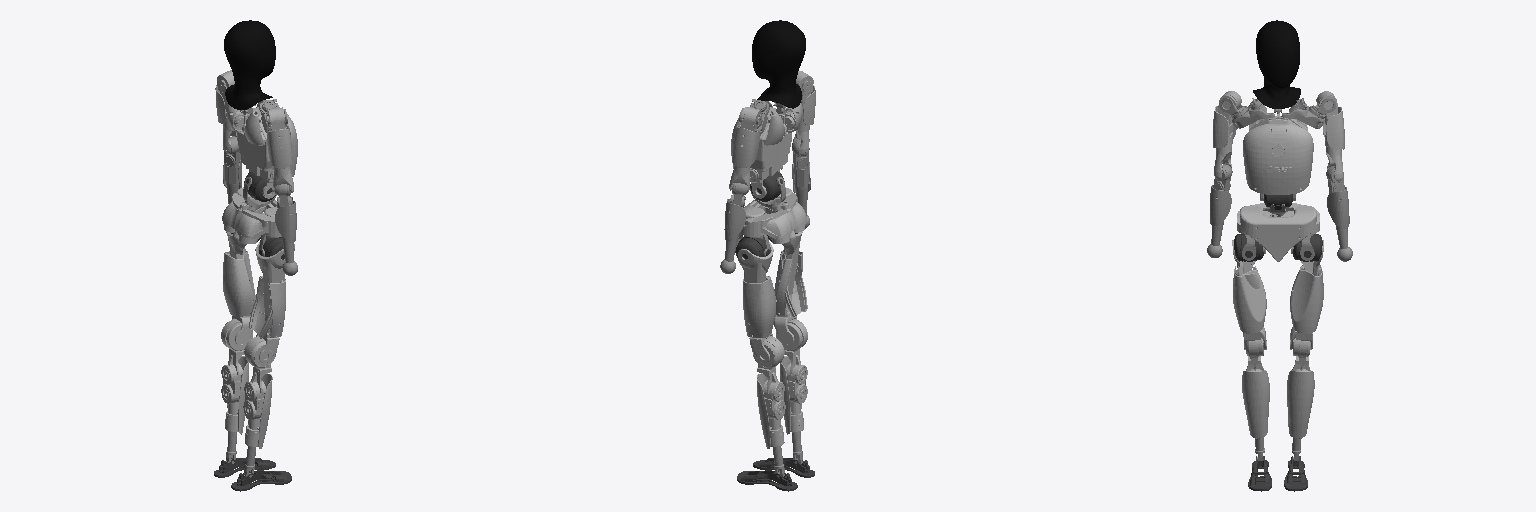
--- Render facts (derived) ---
Views: 3 orthographic renders of the robot side by side, from view 1: azimuth 30°, elevation 25°; view 2: azimuth 150°, elevation 25°; view 3: azimuth 270°, elevation 25°.
Model T1pro with 35 links and 34 joints (34 revolute), rooted at base_link, posed every joint at zero.
Visible links, largest first — view 1: topY_Link, R_hipP_Link, torsoP_Link, R_kneeP_Link, L_hipP_Link, L_kneeP_Link, base_link, R_elbowR_Link, R_shoulderR_Link, L_elbowR_Link, R_ankleP_Link, L_ankleP_Link (+1 smaller); view 2: topY_Link, L_hipP_Link, torsoP_Link, L_kneeP_Link, R_hipP_Link, R_kneeP_Link, base_link, L_elbowR_Link, L_shoulderR_Link, R_elbowR_Link, L_ankleP_Link, R_shoulderR_Link (+1 smaller); view 3: torsoP_Link, topY_Link, base_link, L_hipP_Link, R_hipP_Link, R_kneeP_Link, L_kneeP_Link, L_elbowR_Link, R_elbowR_Link, L_shoulderR_Link, R_shoulderR_Link, R_rodY_Link (+3 smaller).
Link boxes in pixels (<box>): topY_Link: <box>224,20,275,109</box>; R_hipP_Link: <box>249,242,285,362</box>; torsoP_Link: <box>227,102,297,198</box>; R_kneeP_Link: <box>243,336,276,448</box>; L_hipP_Link: <box>223,231,260,346</box>; L_kneeP_Link: <box>221,319,252,434</box>; base_link: <box>222,187,280,243</box>; R_elbowR_Link: <box>275,184,297,275</box>; R_shoulderR_Link: <box>266,107,292,168</box>; L_elbowR_Link: <box>223,136,241,203</box>; R_ankleP_Link: <box>231,470,291,491</box>; L_ankleP_Link: <box>214,458,275,477</box>; topY_Link: <box>752,20,805,108</box>; L_hipP_Link: <box>737,242,775,362</box>; torsoP_Link: <box>731,102,801,198</box>; L_kneeP_Link: <box>752,336,785,448</box>; R_hipP_Link: <box>769,231,807,346</box>; R_kneeP_Link: <box>776,319,807,434</box>; base_link: <box>740,187,806,243</box>; L_elbowR_Link: <box>720,183,747,273</box>; L_shoulderR_Link: <box>732,107,761,167</box>; R_elbowR_Link: <box>792,139,810,228</box>; L_ankleP_Link: <box>737,470,797,491</box>; R_shoulderR_Link: <box>796,71,815,125</box>; torsoP_Link: <box>1243,98,1313,200</box>; topY_Link: <box>1253,20,1300,108</box>; base_link: <box>1237,203,1319,261</box>; L_hipP_Link: <box>1290,240,1323,349</box>; R_hipP_Link: <box>1232,240,1266,349</box>; R_kneeP_Link: <box>1242,338,1269,438</box>; L_kneeP_Link: <box>1287,338,1314,438</box>; L_elbowR_Link: <box>1326,166,1352,261</box>; R_elbowR_Link: <box>1207,164,1232,257</box>; L_shoulderR_Link: <box>1316,91,1344,149</box>; R_shoulderR_Link: <box>1213,91,1241,147</box>; R_rodY_Link: <box>1231,99,1274,128</box>.
Size in the robot's own frame: 0.2427 by 0.4653 by 1.59 metres.
Meshes: 33 distinct files referenced, 33 mesh visuals loaded (33 binary STL).

URDF robot description (T1pro):
<?xml version="1.0" encoding="utf-8"?>
<!-- This URDF was automatically created by SolidWorks to URDF Exporter! Originally created by Stephen Brawner ([email redacted]) 
     Commit Version: 1.6.0-1-g15f4949  Build Version: 1.6.7594.29634
     For more information, please see http://wiki.ros.org/sw_urdf_exporter -->
<robot name="T1pro">
  <mujoco>
    <compiler meshdir="../meshes/" balanceinertia="true" discardvisual="false"/>
  </mujoco>

  <link name="base_link">
    <inertial>
      <origin
        xyz="-0.0315498678675796 -9.6383513446685E-05 0.0380042107236093"
        rpy="0 0 0" />
      <mass
        value="1.23076157097141" />
      <inertia
        ixx="0.00654042673255888"
        ixy="-4.4410061698018E-07"
        ixz="9.00185758087759E-05"
        iyy="0.0016824723057345"
        iyz="1.03456602626791E-06"
        izz="0.00731399102529509" />
    </inertial>
    <visual>
      <origin
        xyz="0 0 0"
        rpy="0 0 0" />
      <geometry>
        <mesh
          filename="../meshes/base_link.STL" />
      </geometry>
      <material
        name="t1">
        <color
          rgba="0.7 0.7 0.7 1" />
      </material>
    </visual>
    <collision>
      <origin
        xyz="0 0 0"
        rpy="0 0 0" />
      <geometry>
        <mesh
          filename="../meshes/base_link.STL" />
      </geometry>
    </collision>
  </link>

  <link name="R_hipY_Link">
    <inertial>
      <origin
        xyz="0.0067455636350009 -0.00103818150002608 -0.0203569717720608"
        rpy="0 0 0" />
      <mass
        value="0.135627349098099" />
      <inertia
        ixx="0.000104635070698705"
        ixy="7.74818490549327E-07"
        ixz="8.47466867281399E-06"
        iyy="0.000271678349977431"
        iyz="-5.69145144555207E-06"
        izz="0.000238351668824679" />
    </inertial>
    <visual>
      <origin
        xyz="0 0 0"
        rpy="0 0 0" />
      <geometry>
        <mesh
          filename="../meshes/R_hipY_Link.STL" />
      </geometry>
      <material
        name="t1">
        <color
          rgba="0.6 0.6 0.6 1" />
      </material>
    </visual>
    <collision>
      <origin
        xyz="0 0 0"
        rpy="0 0 0" />
      <geometry>
        <mesh
          filename="../meshes/R_hipY_Link.STL" />
      </geometry>
    </collision>
  </link>

  <link name="R_hipR_Link">
    <inertial>
      <origin
        xyz="-2.82650799525719E-05 0.000605000143199322 2.86965719581422E-06"
        rpy="0 0 0" />
      <mass
        value="0.28104177910466" />
      <inertia
        ixx="0.000162560077993186"
        ixy="-3.32784167789753E-15"
        ixz="3.39308408039717E-07"
        iyy="0.000313792186181078"
        iyz="8.00427990121397E-16"
        izz="0.000165867674465242" />
    </inertial>
    <visual>
      <origin
        xyz="0 0 0"
        rpy="0 0 0" />
      <geometry>
        <mesh
          filename="../meshes/R_hipR_Link.STL" />
      </geometry>
      <material
        name="t1">
        <color
          rgba="0.3 0.3 0.3 1" />
      </material>
    </visual>
    <collision>
      <origin
        xyz="0 0 0"
        rpy="0 0 0" />
      <geometry>
        <mesh
          filename="../meshes/R_hipR_Link.STL" />
      </geometry>
    </collision>
  </link>

  <link name="R_hipP_Link">
    <inertial>
      <origin
        xyz="-0.0369486232699581 -0.0199180055078242 -0.159508920804833"
        rpy="0 0 0" />
      <mass
        value="1.54003356859251" />
      <inertia
        ixx="0.0101710285666256"
        ixy="3.03159952636325E-05"
        ixz="-0.000741322763981141"
        iyy="0.010191316290777"
        iyz="3.20649646091115E-05"
        izz="0.00111162704456222" />
    </inertial>
    <visual>
      <origin
        xyz="0 0 0"
        rpy="0 0 0" />
      <geometry>
        <mesh
          filename="../meshes/R_hipP_Link.STL" />
      </geometry>
      <material
        name="t1">
        <color
          rgba="0.7 0.7 0.7 1" />
      </material>
    </visual>
    <collision>
      <origin
        xyz="0 0 0"
        rpy="0 0 0" />
      <geometry>
        <mesh
          filename="../meshes/R_hipP_Link.STL" />
      </geometry>
    </collision>
  </link>

  <link name="R_kneeP_Link">
    <inertial>
      <origin
        xyz="0.00427339544307559 -0.00376944615736882 -0.0817882846490822"
        rpy="0 0 0" />
      <mass
        value="3.01801273706325" />
      <inertia
        ixx="0.00366828908310136"
        ixy="-2.46583949155374E-06"
        ixz="0.000194169817750153"
        iyy="0.00437093274168863"
        iyz="2.52514865182868E-05"
        izz="0.00159884555453514" />
    </inertial>
    <visual>
      <origin
        xyz="0 0 0"
        rpy="0 0 0" />
      <geometry>
        <mesh
          filename="../meshes/R_kneeP_Link.STL" />
      </geometry>
      <material
        name="t1">
        <color
          rgba="0.7 0.7 0.7 1" />
      </material>
    </visual>
    <collision>
      <origin
        xyz="0 0 0"
        rpy="0 0 0" />
      <geometry>
        <mesh
          filename="../meshes/R_kneeP_Link.STL" />
      </geometry>
    </collision>
  </link>

  <link name="R_ankleY_Link">
    <inertial>
      <origin
        xyz="3.11807468733605E-10 6.07161321219962E-10 0.0562092456126886"
        rpy="0 0 0" />
      <mass
        value="0.108999608013321" />
      <inertia
        ixx="0.000123164560716894"
        ixy="-3.82382828672945E-14"
        ixz="6.6133284727665E-13"
        iyy="0.000124940224036683"
        iyz="9.84213417242827E-13"
        izz="1.68191086026007E-05" />
    </inertial>
    <visual>
      <origin
        xyz="0 0 0"
        rpy="0 0 0" />
      <geometry>
        <mesh
          filename="../meshes/R_ankleY_Link.STL" />
      </geometry>
      <material
        name="t1">
        <color
          rgba="0.6 0.6 0.6 1" />
      </material>
    </visual>
    <collision>
      <origin
        xyz="0 0 0"
        rpy="0 0 0" />
      <geometry>
        <mesh
          filename="../meshes/R_ankleY_Link.STL" />
      </geometry>
    </collision>
  </link>

  <link name="R_ankleR_Link">
    <inertial>
      <origin
        xyz="1.71200831289298E-11 2.49599091395325E-11 5.14505105186913E-12"
        rpy="0 0 0" />
      <mass
        value="0.00410274215705773" />
      <inertia
        ixx="1.03019007401273E-07"
        ixy="1.23146513693832E-22"
        ixz="-3.81834842560603E-20"
        iyy="1.03019007401272E-07"
        iyz="-2.79319828930978E-20"
        izz="1.40120446773242E-07" />
    </inertial>
    <visual>
      <origin
        xyz="0 0 0"
        rpy="0 0 0" />
      <geometry>
        <mesh
          filename="../meshes/R_ankleR_Link.STL" />
      </geometry>
      <material
        name="t1">
        <color
          rgba="0.6 0.6 0.6 1" />
      </material>
    </visual>
    <collision>
      <origin
        xyz="0 0 0"
        rpy="0 0 0" />
      <geometry>
        <mesh
          filename="../meshes/R_ankleR_Link.STL" />
      </geometry>
    </collision>
  </link>

  <link name="R_ankleP_Link">
    <inertial>
      <origin
        xyz="0.0579119674690785 -0.00170448970589571 -0.0234801366673478"
        rpy="0 0 0" />
      <mass
        value="0.128229490799834" />
      <inertia
        ixx="5.42260642924232E-05"
        ixy="-6.53280112815239E-07"
        ixz="-9.6178046086823E-06"
        iyy="0.00045094946060152"
        iyz="-1.74345009727952E-07"
        izz="0.000478843811805855" />
    </inertial>
    <visual>
      <origin
        xyz="0 0 0"
        rpy="0 0 0" />
      <geometry>
        <mesh
          filename="../meshes/R_ankleP_Link.STL" />
      </geometry>
      <material
        name="t1">
        <color
          rgba="0.3 0.3 0.3 1" />
      </material>
    </visual>
    <collision>
      <origin
        xyz="0 0 0"
        rpy="0 0 0" />
      <geometry>
        <mesh
          filename="../meshes/R_ankleP_Link.STL" />
      </geometry>
    </collision>
  </link>

  <link name="L_hipY_Link">
    <inertial>
      <origin
        xyz="0.00332141575651246 0.00446335028908188 -0.166438176011578"
        rpy="0 0 0" />
      <mass
        value="1.38183017950658" />
      <inertia
        ixx="0.018339863426236"
        ixy="-3.86136885893685E-10"
        ixz="5.6995246191965E-05"
        iyy="0.0193599125890252"
        iyz="9.32173203932909E-11"
        izz="0.00172163082572089" />
    </inertial>
    <visual>
      <origin
        xyz="0 0 0"
        rpy="0 0 0" />
      <geometry>
        <mesh
          filename="../meshes/L_hipY_Link.STL" />
      </geometry>
      <material
        name="t1">
        <color
          rgba="0.6 0.6 0.6 1" />
      </material>
    </visual>
    <collision>
      <origin
        xyz="0 0 0"
        rpy="0 0 0" />
      <geometry>
        <mesh
          filename="../meshes/L_hipY_Link.STL" />
      </geometry>
    </collision>
  </link>

  <link name="L_hipR_Link">
    <inertial>
      <origin
        xyz="-2.8265079938361E-05 -0.000605000141270413 2.86965645429627E-06"
        rpy="0 0 0" />
      <mass
        value="0.281041779104663" />
      <inertia
        ixx="0.000162560077993187"
        ixy="3.45321716540951E-15"
        ixz="3.39308408039778E-07"
        iyy="0.000313792186181081"
        iyz="-8.00914504670476E-16"
        izz="0.000165867674465243" />
    </inertial>
    <visual>
      <origin
        xyz="0 0 0"
        rpy="0 0 0" />
      <geometry>
        <mesh
          filename="../meshes/L_hipR_Link.STL" />
      </geometry>
      <material
        name="t1">
        <color
          rgba="0.3 0.3 0.3 1" />
      </material>
    </visual>
    <collision>
      <origin
        xyz="0 0 0"
        rpy="0 0 0" />
      <geometry>
        <mesh
          filename="../meshes/L_hipR_Link.STL" />
      </geometry>
    </collision>
  </link>

  <link name="L_hipP_Link">
    <inertial>
      <origin
        xyz="-0.0404580402589563 0.020123600446085 -0.165997748976104"
        rpy="0 0 0" />
      <mass
        value="0.718620390550367" />
      <inertia
        ixx="0.00443107941268324"
        ixy="-2.00116151546213E-05"
        ixz="-0.000253713026667675"
        iyy="0.00429227115651183"
        iyz="-2.60584743524048E-05"
        izz="0.000613445444676571" />
    </inertial>
    <visual>
      <origin
        xyz="0 0 0"
        rpy="0 0 0" />
      <geometry>
        <mesh
          filename="../meshes/L_hipP_Link.STL" />
      </geometry>
      <material
        name="t1">
        <color
          rgba="0.7 0.7 0.7 1" />
      </material>
    </visual>
    <collision>
      <origin
        xyz="0 0 0"
        rpy="0 0 0" />
      <geometry>
        <mesh
          filename="../meshes/L_hipP_Link.STL" />
      </geometry>
    </collision>
  </link>

  <link name="L_kneeP_Link">
    <inertial>
      <origin
        xyz="0.00582105925119913 0.00398380891329893 -0.0885443069833837"
        rpy="0 0 0" />
      <mass
        value="1.1868282826012" />
      <inertia
        ixx="0.00166530657700199"
        ixy="8.64552888002121E-07"
        ixz="8.37882111646553E-05"
        iyy="0.00188625190355322"
        iyz="-1.10134820018241E-05"
        izz="0.000665894654582299" />
    </inertial>
    <visual>
      <origin
        xyz="0 0 0"
        rpy="0 0 0" />
      <geometry>
        <mesh
          filename="../meshes/L_kneeP_Link.STL" />
      </geometry>
      <material
        name="t1">
        <color
          rgba="0.7 0.7 0.7 1" />
      </material>
    </visual>
    <collision>
      <origin
        xyz="0 0 0"
        rpy="0 0 0" />
      <geometry>
        <mesh
          filename="../meshes/L_kneeP_Link.STL" />
      </geometry>
    </collision>
  </link>

  <link name="L_ankleY_Link">
    <inertial>
      <origin
        xyz="3.11799919217037E-10 -0.000796535693586425 0.0562036015148186"
        rpy="0 0 0" />
      <mass
        value="0.115055141791839" />
      <inertia
        ixx="0.000130007036312276"
        ixy="3.04662375361797E-14"
        ixz="6.98576341431115E-13"
        iyy="0.000131858429137882"
        iyz="1.61712979131443E-06"
        izz="1.7776421981361E-05" />
    </inertial>
    <visual>
      <origin
        xyz="0 0 0"
        rpy="0 0 0" />
      <geometry>
        <mesh
          filename="../meshes/L_ankleY_Link.STL" />
      </geometry>
      <material
        name="t1">
        <color
          rgba="0.6 0.6 0.6 1" />
      </material>
    </visual>
    <collision>
      <origin
        xyz="0 0 0"
        rpy="0 0 0" />
      <geometry>
        <mesh
          filename="../meshes/L_ankleY_Link.STL" />
      </geometry>
    </collision>
  </link>

  <link name="L_ankleR_Link">
    <inertial>
      <origin
        xyz="1.71116454339426E-11 -2.49547188468924E-11 5.14599474144006E-12"
        rpy="0 0 0" />
      <mass
        value="0.00410274215705773" />
      <inertia
        ixx="1.03019007401273E-07"
        ixy="-2.12068429543282E-22"
        ixz="-3.82016822295365E-20"
        iyy="1.03019007401272E-07"
        iyz="2.79210356746785E-20"
        izz="1.40120446773242E-07" />
    </inertial>
    <visual>
      <origin
        xyz="0 0 0"
        rpy="0 0 0" />
      <geometry>
        <mesh
          filename="../meshes/L_ankleR_Link.STL" />
      </geometry>
      <material
        name="t1">
        <color
          rgba="0.6 0.6 0.6 1" />
      </material>
    </visual>
    <collision>
      <origin
        xyz="0 0 0"
        rpy="0 0 0" />
      <geometry>
        <mesh
          filename="../meshes/L_ankleR_Link.STL" />
      </geometry>
    </collision>
  </link>

  <link name="L_ankleP_Link">
    <inertial>
      <origin
        xyz="0.0579130005248092 0.00170424468086604 -0.0234799624008845"
        rpy="0 0 0" />
      <mass
        value="0.360322845296995" />
      <inertia
        ixx="0.000152376503060086"
        ixy="1.83828965172943E-06"
        ixz="-2.70212774817561E-05"
        iyy="0.00126711409130782"
        iyz="4.89838209583035E-07"
        izz="0.00134550014131641" />
    </inertial>
    <visual>
      <origin
        xyz="0 0 0"
        rpy="0 0 0" />
      <geometry>
        <mesh
          filename="../meshes/L_ankleP_Link.STL" />
      </geometry>
      <material
        name="t1">
        <color
          rgba="0.3 0.3 0.3 1" />
      </material>
    </visual>
    <collision>
      <origin
        xyz="0 0 0"
        rpy="0 0 0" />
      <geometry>
        <mesh
          filename="../meshes/L_ankleP_Link.STL" />
      </geometry>
    </collision>
  </link>

  <link name="torsoY_Link">
    <inertial>
      <origin
        xyz="0.0013718087612502 -4.67528329295035E-05 -0.00998737402384492"
        rpy="0 0 0" />
      <mass
        value="0.0904790644352542" />
      <inertia
        ixx="5.12016274321332E-05"
        ixy="8.34243483692109E-07"
        ixz="7.52107092731427E-06"
        iyy="0.000103415380729769"
        iyz="-2.45358424581182E-07"
        izz="7.30609199751957E-05" />
    </inertial>
    <visual>
      <origin
        xyz="0 0 0"
        rpy="0 0 0" />
      <geometry>
        <mesh
          filename="../meshes/torsoY_Link.STL" />
      </geometry>
      <material
        name="t1">
        <color
          rgba="0.6 0.6 0.6 1" />
      </material>
    </visual>
    <collision>
      <origin
        xyz="0 0 0"
        rpy="0 0 0" />
      <geometry>
        <mesh
          filename="../meshes/torsoY_Link.STL" />
      </geometry>
    </collision>
  </link>

  <link name="torsoR_Link">
    <inertial>
      <origin
        xyz="2.53138543140352E-05 -3.92528056974802E-16 -1.28980529983669E-05"
        rpy="0 0 0" />
      <mass
        value="0.28104177910466" />
      <inertia
        ixx="0.00016322154938924"
        ixy="-9.9211804998387E-19"
        ixz="1.36582072173658E-06"
        iyy="0.000313792186181077"
        iyz="-1.99735158801677E-18"
        izz="0.000165206203069186" />
    </inertial>
    <visual>
      <origin
        xyz="0 0 0"
        rpy="0 0 0" />
      <geometry>
        <mesh
          filename="../meshes/torsoR_Link.STL" />
      </geometry>
      <material
        name="t1">
        <color
          rgba="0.3 0.3 0.3 1" />
      </material>
    </visual>
    <collision>
      <origin
        xyz="0 0 0"
        rpy="0 0 0" />
      <geometry>
        <mesh
          filename="../meshes/torsoR_Link.STL" />
      </geometry>
    </collision>
  </link>

  <link name="torsoP_Link">
    <inertial>
      <origin
        xyz="-0.00350824659879301 0.000350059518372397 0.147857491784122"
        rpy="0 0 0" />
      <mass
        value="1.98299127223499" />
      <inertia
        ixx="0.00961920639831033"
        ixy="-2.68387544794794E-06"
        ixz="0.000219192561346487"
        iyy="0.00593946224272529"
        iyz="-1.75783176866767E-05"
        izz="0.00541231275588708" />
    </inertial>
    <visual>
      <origin
        xyz="0 0 0"
        rpy="0 0 0" />
      <geometry>
        <mesh
          filename="../meshes/torsoP_Link.STL" />
      </geometry>
      <material
        name="t1">
        <color
          rgba="0.7 0.7 0.7 1" />
      </material>
    </visual>
    <collision>
      <origin
        xyz="0 0 0"
        rpy="0 0 0" />
      <geometry>
        <mesh
          filename="../meshes/torsoP_Link.STL" />
      </geometry>
    </collision>
  </link>

  <link name="R_rodY_Link">
    <inertial>
      <origin
        xyz="-0.0154380088601545 -0.0699869440091589 0.00712266548946872"
        rpy="0 0 0" />
      <mass
        value="0.184259441676534" />
      <inertia
        ixx="7.32485418643283E-05"
        ixy="-5.71807103176429E-06"
        ixz="5.51238524288928E-06"
        iyy="6.88047197778189E-05"
        iyz="-9.77299208146886E-06"
        izz="0.000105019533074737" />
    </inertial>
    <visual>
      <origin
        xyz="0 0 0"
        rpy="0 0 0" />
      <geometry>
        <mesh
          filename="../meshes/R_rodY_Link.STL" />
      </geometry>
      <material
        name="t1">
        <color
          rgba="0.6 0.6 0.6 1" />
      </material>
    </visual>
    <collision>
      <origin
        xyz="0 0 0"
        rpy="0 0 0" />
      <geometry>
        <mesh
          filename="../meshes/R_rodY_Link.STL" />
      </geometry>
    </collision>
  </link>

  <link name="R_rodR_Link">
    <inertial>
      <origin
        xyz="0 0 0"
        rpy="0 0 0" />
      <mass
        value="0.0001" />
      <inertia
        ixx="7.32485418643283E-05"
        ixy="-5.71807103176429E-06"
        ixz="5.51238524288928E-06"
        iyy="6.88047197778189E-05"
        iyz="-9.77299208146886E-06"
        izz="0.000105019533074737" />
    </inertial>
  </link>
  
  <link name="R_shoulderY_Link">
    <inertial>
      <origin
        xyz="0.00463123429752477 -0.00532124073322487 0.0195882794010871"
        rpy="0 0 0" />
      <mass
        value="0.0643709220329307" />
      <inertia
        ixx="3.23205611441617E-05"
        ixy="8.35769381568651E-07"
        ixz="-4.8602940515824E-06"
        iyy="5.74148059915711E-05"
        iyz="4.86901526137223E-06"
        izz="4.83738303081551E-05" />
    </inertial>
    <visual>
      <origin
        xyz="0 0 0"
        rpy="0 0 0" />
      <geometry>
        <mesh
          filename="../meshes/R_shoulderY_Link.STL" />
      </geometry>
      <material
        name="t1">
        <color
          rgba="0.6 0.6 0.6 1" />
      </material>
    </visual>
    <collision>
      <origin
        xyz="0 0 0"
        rpy="0 0 0" />
      <geometry>
        <mesh
          filename="../meshes/R_shoulderY_Link.STL" />
      </geometry>
    </collision>
  </link>

  <link name="R_shoulderR_Link">
    <inertial>
      <origin
        xyz="-0.000416514952873204 -0.0409364233784625 -0.00826842553276824"
        rpy="0 0 0" />
      <mass
        value="0.22232587383972" />
      <inertia
        ixx="0.000182683685266401"
        ixy="-5.43784887216432E-07"
        ixz="-4.67713829365295E-07"
        iyy="0.000126769686257631"
        iyz="-2.52906185066515E-05"
        izz="0.000172603031949789" />
    </inertial>
    <visual>
      <origin
        xyz="0 0 0"
        rpy="0 0 0" />
      <geometry>
        <mesh
          filename="../meshes/R_shoulderR_Link.STL" />
      </geometry>
      <material
        name="t1">
        <color
          rgba="0.7 0.7 0.7 1" />
      </material>
    </visual>
    <collision>
      <origin
        xyz="0 0 0"
        rpy="0 0 0" />
      <geometry>
        <mesh
          filename="../meshes/R_shoulderR_Link.STL" />
      </geometry>
    </collision>
  </link>

  <link name="R_elbowY_Link">
    <inertial>
      <origin
        xyz="0.000924706578333989 -0.00213430110294088 -0.0476184457179435"
        rpy="0 0 0" />
      <mass
        value="0.186791620883188" />
      <inertia
        ixx="6.25454013976565E-05"
        ixy="-2.02535840221464E-06"
        ixz="-7.00460769560163E-06"
        iyy="7.39090511217131E-05"
        iyz="-4.33499309927662E-06"
        izz="6.1817893132857E-05" />
    </inertial>
    <visual>
      <origin
        xyz="0 0 0"
        rpy="0 0 0" />
      <geometry>
        <mesh
          filename="../meshes/R_elbowY_Link.STL" />
      </geometry>
      <material
        name="t1">
        <color
          rgba="0.7 0.7 0.7 1" />
      </material>
    </visual>
    <collision>
      <origin
        xyz="0 0 0"
        rpy="0 0 0" />
      <geometry>
        <mesh
          filename="../meshes/R_elbowY_Link.STL" />
      </geometry>
    </collision>
  </link>

  <link name="R_elbowR_Link">
    <inertial>
      <origin
        xyz="0.00171192559640287 -0.000415174516475991 -0.124009127338691"
        rpy="0 0 0" />
      <mass
        value="0.400117296427614" />
      <inertia
        ixx="0.000417383522774575"
        ixy="-2.42196812509592E-06"
        ixz="7.99693561296014E-06"
        iyy="0.000396752417483201"
        iyz="1.07100004657683E-07"
        izz="0.000110157422784511" />
    </inertial>
    <visual>
      <origin
        xyz="0 0 0"
        rpy="0 0 0" />
      <geometry>
        <mesh
          filename="../meshes/R_elbowR_Link.STL" />
      </geometry>
      <material
        name="t1">
        <color
          rgba="0.6 0.6 0.6 1" />
      </material>
    </visual>
    <collision>
      <origin
        xyz="0 0 0"
        rpy="0 0 0" />
      <geometry>
        <mesh
          filename="../meshes/R_elbowR_Link.STL" />
      </geometry>
    </collision>
  </link>

  <link name="L_rodY_Link">
    <inertial>
      <origin
        xyz="-0.0297715125913696 0.0657664407225502 0.00621912235603139"
        rpy="0 0 0" />
      <mass
        value="0.180439279883661" />
      <inertia
        ixx="7.0735016972376E-05"
        ixy="6.12989567951806E-06"
        ixz="3.41566197767301E-06"
        iyy="7.11991217304738E-05"
        iyz="1.06801647437146E-05"
        izz="0.000104917871432552" />
    </inertial>
    <visual>
      <origin
        xyz="0 0 0"
        rpy="0 0 0" />
      <geometry>
        <mesh
          filename="../meshes/L_rodY_Link.STL" />
      </geometry>
      <material
        name="t1">
        <color
          rgba="0.6 0.6 0.6 1" />
      </material>
    </visual>
    <collision>
      <origin
        xyz="0 0 0"
        rpy="0 0 0" />
      <geometry>
        <mesh
          filename="../meshes/L_rodY_Link.STL" />
      </geometry>
    </collision>
  </link>
  
  <link name="L_rodR_Link">
    <inertial>
      <origin
        xyz="-0.0297715125913696 0.0657664407225502 0.00621912235603139"
        rpy="0 0 0" />
      <mass
        value="0.180439279883661" />
      <inertia
        ixx="7.0735016972376E-05"
        ixy="6.12989567951806E-06"
        ixz="3.41566197767301E-06"
        iyy="7.11991217304738E-05"
        iyz="1.06801647437146E-05"
        izz="0.000104917871432552" />
    </inertial>
  </link>

  <link name="L_shoulderY_Link">
    <inertial>
      <origin
        xyz="0.00463194981208925 0.005320898390891 0.019587739324339"
        rpy="0 0 0" />
      <mass
        value="0.0643734046620215" />
      <inertia
        ixx="3.23215102408754E-05"
        ixy="-8.35343061246722E-07"
        ixz="-4.85959701601682E-06"
        iyy="5.74162966908966E-05"
        iyz="-4.86924942232576E-06"
        izz="4.83750912096484E-05" />
    </inertial>
    <visual>
      <origin
        xyz="0 0 0"
        rpy="0 0 0" />
      <geometry>
        <mesh
          filename="../meshes/L_shoulderY_Link.STL" />
      </geometry>
      <material
        name="t1">
        <color
          rgba="0.6 0.6 0.6 1" />
      </material>
    </visual>
    <collision>
      <origin
        xyz="0 0 0"
        rpy="0 0 0" />
      <geometry>
        <mesh
          filename="../meshes/L_shoulderY_Link.STL" />
      </geometry>
    </collision>
  </link>

  <link name="L_shoulderR_Link">
    <inertial>
      <origin
        xyz="-0.000411031193785494 0.0409157682698198 -0.00824837129798539"
        rpy="0 0 0" />
      <mass
        value="0.222203767358446" />
      <inertia
        ixx="0.00018243434978116"
        ixy="5.12998614843188E-07"
        ixz="-4.63167108949539E-07"
        iyy="0.000126570457122599"
        iyz="2.52754735458133E-05"
        izz="0.000172389865773836" />
    </inertial>
    <visual>
      <origin
        xyz="0 0 0"
        rpy="0 0 0" />
      <geometry>
        <mesh
          filename="../meshes/L_shoulderR_Link.STL" />
      </geometry>
      <material
        name="t1">
        <color
          rgba="0.7 0.7 0.7 1" />
      </material>
    </visual>
    <collision>
      <origin
        xyz="0 0 0"
        rpy="0 0 0" />
      <geometry>
        <mesh
          filename="../meshes/L_shoulderR_Link.STL" />
      </geometry>
    </collision>
  </link>

  <link name="L_elbowY_Link">
    <inertial>
      <origin
        xyz="0.000924504595822828 0.00213423177517935 -0.0476173946240904"
        rpy="0 0 0" />
      <mass
        value="1.36354202037422" />
      <inertia
        ixx="0.000456568880179085"
        ixy="1.47804461213211E-05"
        ixz="-5.1132695458458E-05"
        iyy="0.000539483895306219"
        iyz="3.16472301831256E-05"
        izz="0.000451250039569606" />
    </inertial>
    <visual>
      <origin
        xyz="0 0 0"
        rpy="0 0 0" />
      <geometry>
        <mesh
          filename="../meshes/L_elbowY_Link.STL" />
      </geometry>
      <material
        name="t1">
        <color
          rgba="0.7 0.7 0.7 1" />
      </material>
    </visual>
    <collision>
      <origin
        xyz="0 0 0"
        rpy="0 0 0" />
      <geometry>
        <mesh
          filename="../meshes/L_elbowY_Link.STL" />
      </geometry>
    </collision>
  </link>

  <link name="L_elbowR_Link">
    <inertial>
      <origin
        xyz="0.00092597471560163 0.000185074314603351 -0.125211727791695"
        rpy="0 0 0" />
      <mass
        value="1.00790512125634" />
      <inertia
        ixx="0.00101835005700341"
        ixy="2.83007605529422E-06"
        ixz="2.13425899315817E-05"
        iyy="0.000974405732542103"
        iyz="1.47228890042894E-07"
        izz="0.000247954396962361" />
    </inertial>
    <visual>
      <origin
        xyz="0 0 0"
        rpy="0 0 0" />
      <geometry>
        <mesh
          filename="../meshes/L_elbowR_Link.STL" />
      </geometry>
      <material
        name="t1">
        <color
          rgba="0.6 0.6 0.6 1" />
      </material>
    </visual>
    <collision>
      <origin
        xyz="0 0 0"
        rpy="0 0 0" />
      <geometry>
        <mesh
          filename="../meshes/L_elbowR_Link.STL" />
      </geometry>
    </collision>
  </link>
  
  <link name="top_neckR_Link">
    <inertial>
      <origin
        xyz="0.000742735504613012 -1.1951567818996E-10 -0.000128112479048981"
        rpy="0 0 0" />
      <mass
        value="0.00681338481880685" />
      <inertia
        ixx="1.90865938459073E-07"
        ixy="-1.4250434203757E-22"
        ixz="1.15058873735962E-08"
        iyy="1.70300404189241E-07"
        iyz="9.76317225710113E-22"
        izz="2.55587005853958E-07" />
    </inertial>
    <visual>
      <origin
        xyz="0 0 0"
        rpy="0 0 0" />
      <geometry>
        <mesh
          filename="../meshes/top_neckR_Link.STL" />
      </geometry>
      <material
        name="t1">
        <color
          rgba="0.6 0.6 0.6 1" />
      </material>
    </visual>
    <collision>
      <origin
        xyz="0 0 0"
        rpy="0 0 0" />
      <geometry>
        <mesh
          filename="../meshes/top_neckR_Link.STL" />
      </geometry>
    </collision>
  </link>
  
  <link name="neckP_Link">
    <inertial>
      <origin
        xyz="0.00243391638151191 4.66284750825851E-05 0.0451000156138253"
        rpy="0 0 0" />
      <mass
        value="0.110128997998626" />
      <inertia
        ixx="2.84271738833331E-05"
        ixy="-5.38753131092388E-13"
        ixz="-5.48364216078685E-07"
        iyy="2.47271974437132E-05"
        iyz="2.00307052563577E-12"
        izz="2.48287584467849E-05" />
    </inertial>
    <visual>
      <origin
        xyz="0 0 0"
        rpy="0 0 0" />
      <geometry>
        <mesh
          filename="../meshes/neckP_Link.STL" />
      </geometry>
      <material
        name="t1">
        <color
          rgba="0.6 0.6 0.6 1" />
      </material>
    </visual>
    <collision>
      <origin
        xyz="0 0 0"
        rpy="0 0 0" />
      <geometry>
        <mesh
          filename="../meshes/neckP_Link.STL" />
      </geometry>
    </collision>
  </link>
  
  <link name="collarR_Link">
    <inertial>
      <origin
        xyz="0.000168429845527118 -0.00435716619199635 -0.000374698922177064"
        rpy="0 0 0" />
      <mass
        value="0.0871910779442386" />
      <inertia
        ixx="1.78520440732108E-05"
        ixy="-2.05461763307791E-07"
        ixz="-1.76684401028742E-08"
        iyy="2.22281785460055E-05"
        iyz="4.36557586269473E-07"
        izz="1.71892115535751E-05" />
    </inertial>
    <visual>
      <origin
        xyz="0 0 0"
        rpy="0 0 0" />
      <geometry>
        <mesh
          filename="../meshes/collarR_Link.STL" />
      </geometry>
      <material
        name="t1">
        <color
          rgba="0.6 0.6 0.6 1" />
      </material>
    </visual>
    <collision>
      <origin
        xyz="0 0 0"
        rpy="0 0 0" />
      <geometry>
        <mesh
          filename="../meshes/collarR_Link.STL" />
      </geometry>
    </collision>
  </link>
  
  <link name="collarP_Link">
    <inertial>
      <origin
        xyz="0.000201210654287465 0.00325097718344323 -0.0486611633808907"
        rpy="0 0 0" />
      <mass
        value="0.102110636434763" />
      <inertia
        ixx="2.47550302820907E-05"
        ixy="-1.10787442533381E-08"
        ixz="9.19709939148509E-10"
        iyy="2.27780431649068E-05"
        iyz="2.52468413299206E-06"
        izz="2.47484483273439E-05" />
    </inertial>
    <visual>
      <origin
        xyz="0 0 0"
        rpy="0 0 0" />
      <geometry>
        <mesh
          filename="../meshes/collarP_Link.STL" />
      </geometry>
      <material
        name="t1">
        <color
          rgba="0.6 0.6 0.6 1" />
      </material>
    </visual>
    <collision>
      <origin
        xyz="0 0 0"
        rpy="0 0 0" />
      <geometry>
        <mesh
          filename="../meshes/collarP_Link.STL" />
      </geometry>
    </collision>
  </link>
  
  <link name="topY_Link">
    <inertial>
      <origin
        xyz="-0.0160472260493276 0.0049882808537819 0.0118386364073895"
        rpy="0 0 0" />
      <mass
        value="0.418480060722865" />
      <inertia
        ixx="0.00229502796484365"
        ixy="2.56979029755758E-05"
        ixz="-6.75201638198281E-05"
        iyy="0.00247018543864255"
        iyz="-9.72075114411851E-05"
        izz="0.00126674109847904" />
    </inertial>
    <visual>
      <origin
        xyz="0 0 0"
        rpy="0 0 0" />
      <geometry>
        <mesh
          filename="../meshes/topY_Link.STL" />
      </geometry>
      <material
        name="t1">
        <color
          rgba="0.1 0.1 0.1 1" />
      </material>
    </visual>
    <collision>
      <origin
        xyz="0 0 0"
        rpy="0 0 0" />
      <geometry>
        <mesh
          filename="../meshes/topY_Link.STL" />
      </geometry>
    </collision>
  </link>

  <!-- joint -->
  <joint name="R_hipY_Joint"
    type="revolute">
    <origin
      xyz="-0.0092628672154369 -0.0869999999675747 0.0233377595623503"
      rpy="0 0 -0.0135049417347935" />
    <parent
      link="base_link" />
    <child
      link="R_hipY_Link" />
    <axis xyz="0 0 -1" />
    <limit lower="-0.5" upper="1.0" effort="127" velocity="12" />
  </joint>

  <joint name="R_hipR_Joint"
    type="revolute">
    <origin
      xyz="0.00123999999321578 -0.00660174067625816 -0.0630627154378799"
      rpy="0.104378437479005 -0.100633515567151 -0.0105241091593444" />
    <parent
      link="R_hipY_Link" />
    <child
      link="R_hipR_Link" />
    <axis xyz="-0.994885621836331 0 0.101007917824978" />
    <limit lower="-0.4" upper="0.78" effort="450" velocity="12" />
  </joint>

  <joint name="R_hipP_Joint"
    type="revolute">
    <origin
      xyz="0 0 0"
      rpy="0 0 0" />
    <parent
      link="R_hipR_Link" />
    <child
      link="R_hipP_Link" />
    <axis
      xyz="0 -1 0" />
    <limit lower="-0.4" upper="2.47" effort="450" velocity="12" />
  </joint>

  <joint name="R_kneeP_Joint"
    type="revolute">
    <origin
      xyz="-0.0830043203827584 -0.0150331253242884 -0.349140701138534"
      rpy="-0.0604781795842017 0.22122241185969 0.00254303991456878" />
    <parent
      link="R_hipP_Link" />
    <child
      link="R_kneeP_Link" />
    <axis
      xyz="0 1 0" />
    <limit lower="-0.17" upper="2.7" effort="281" velocity="12" />
  </joint>

  <joint name="R_ankleY_Joint"
    type="revolute">
    <origin
      xyz="0.0182534309312037 -0.00449999999999011 -0.427414425773684"
      rpy="0 -0.0227375480165178 0.000246511601469821" />
    <parent
      link="R_kneeP_Link" />
    <child
      link="R_ankleY_Link" />
    <axis
      xyz="-8.39909421749135E-05 -0.101398973064331 -0.994845837910086" />
    <limit lower="-0.43" upper="0.43" effort="44" velocity="12" />
  </joint>

  <joint name="R_ankleR_Joint"
    type="revolute">
    <origin
      xyz="0 0 0"
      rpy="0.0141713652170657 0 0" />
    <parent
      link="R_ankleY_Link" />
    <child
      link="R_ankleR_Link" />
    <axis
      xyz="-1 0 0" />
    <limit lower="-0.9599" upper="0.34" effort="73" velocity="12" />
  </joint>

  <joint name="R_ankleP_Joint"
    type="revolute">
    <origin
      xyz="0 0 0"
      rpy="0 0 0" />
    <parent
      link="R_ankleR_Link" />
    <child
      link="R_ankleP_Link" />
    <axis
      xyz="0 -1 0" />
    <limit lower="-0.9599" upper="0.34" effort="73" velocity="12" />
  </joint>

  <joint name="L_hipY_Joint"
    type="revolute">
    <origin
      xyz="-0.00926286721542668 0.0869999999676132 0.0233377595623898"
      rpy="0 0 0.0135049417347934" />
    <parent
      link="base_link" />
    <child
      link="L_hipY_Link" />
    <axis
      xyz="0 0 1" /> 
    <limit lower="-0.5" upper="1.0" effort="127" velocity="12" />
  </joint>

  <joint name="L_hipR_Joint"
    type="revolute">
    <origin
      xyz="0.00123999999321223 0.00660174067621509 -0.0630627154379208"
      rpy="-0.104378437479088 -0.100633515567065 0.0105241091601732" />
    <parent
      link="L_hipY_Link" />
    <child
      link="L_hipR_Link" />
    <axis
      xyz="0.994885621836331 0 -0.101007917824978" />
    <limit lower="-0.4" upper="0.78" effort="450" velocity="12" />
  </joint>

  <joint name="L_hipP_Joint"
    type="revolute">
    <origin
      xyz="0 0 0"
      rpy="0 0 0" />
    <parent
      link="L_hipR_Link" />
    <child
      link="L_hipP_Link" />
    <axis
      xyz="0 -1 0" />
    <limit lower="-0.4" upper="2.47" effort="450" velocity="12" />
  </joint>

  <joint name="L_kneeP_Joint"
    type="revolute">
    <origin
      xyz="-0.0830043203827455 0.0150331253243573 -0.349140701138534"
      rpy="0.0604781795842017 0.22122241185969 -0.00254303991539777" />
    <parent
      link="L_hipP_Link" />
    <child
      link="L_kneeP_Link" />
    <axis
      xyz="0 1 0" />
    <limit lower="-0.17" upper="2.7" effort="281" velocity="12" />
  </joint>

  <joint name="L_ankleY_joint"
    type="revolute">
    <origin
      xyz="0.0182534309312037 0.00449999999999008 -0.427414425773684"
      rpy="-0.0141657606305357 -0.0227375480165124 -0.000246511601469839" />
    <parent
      link="L_kneeP_Link" />
    <child
      link="L_ankleY_Link" />
    <axis
      xyz="0 0 1" />
    <limit lower="-0.43" upper="0.43" effort="44" velocity="12" />
  </joint>

  <joint name="L_ankleR_Joint"
    type="revolute">
    <origin
      xyz="0 0 0"
      rpy="0 0 0" />
    <parent
      link="L_ankleY_Link" />
    <child
      link="L_ankleR_Link" />
    <axis
      xyz="1 0 0" />
    <limit lower="-0.9599" upper="0.34" effort="73" velocity="12" />
  </joint>

  <joint name="L_ankleP_Joint"
    type="revolute">
    <origin
      xyz="0 0 0"
      rpy="0 0 0" />
    <parent
      link="L_ankleR_Link" />
    <child
      link="L_ankleP_Link" />
    <axis
      xyz="0 -1 0" />
    <limit lower="-0.9599" upper="0.34" effort="73" velocity="12" />
  </joint>

  <joint name="torsoY_Joint"
    type="revolute">
    <origin
      xyz="-0.0368673158841384 0 0.0978576505820781"
      rpy="0 0 0" />
    <parent
      link="base_link" />
    <child
      link="torsoY_Link" />
    <axis
      xyz="0.453990499739522 0 0.891006524188381" />
    <limit lower="-0.26" upper="0.26" effort="73" velocity="12" />
  </joint>

  <joint name="torsoR_Joint"
    type="revolute">
    <origin
      xyz="0.027872866808174 0 0.0497706588996772"
      rpy="0 0 0" />
    <parent
      link="torsoY_Link" />
    <child
      link="torsoR_Link" />
    <axis
      xyz="0.891006524188382 0 -0.453990499739519" />
    <limit lower="-0.78" upper="0.78" effort="450" velocity="12" />
  </joint>

  <joint name="torsoP_Joint"
    type="revolute">
    <origin
      xyz="0 0 0"
      rpy="0 0 0" />
    <parent
      link="torsoR_Link" />
    <child
      link="torsoP_Link" />
    <axis
      xyz="0 1 0" />
    <limit lower="-0.5" upper="1.39" effort="450" velocity="12" />
  </joint>

  <joint name="R_rodY_Joint"
    type="revolute">
    <origin
      xyz="0.0180414136942475 -0.0220733895232331 0.286310542662223"
      rpy="0.187805469222596 -0.125667779647535 -0.203343780411169" />
    <parent
      link="torsoP_Link" />
    <child
      link="R_rodY_Link" />
    <axis
      xyz="0 0 1" />
    <limit lower="-0.07" upper="0.07" effort="30" velocity="7.8" />
  </joint>

  <joint name="R_rodR_Joint"
    type="revolute">
    <origin
      xyz="0 0 0"
      rpy="0 0 0" />
    <parent
      link="R_rodY_Link" />
    <child
      link="R_rodR_Link" />
    <axis
      xyz="-1 0 0" />
    <limit lower="-0.07" upper="0.07" effort="30" velocity="7.8" />
  </joint>

  <joint name="R_shoulderY_Joint"
    type="revolute">
    <origin
      xyz="-0.0157092574673094 -0.108433003891982 0.0182986319400492"
      rpy="0.420458410206371 0.00702318033464947 -0.17157333981384" />
    <parent
      link="R_rodR_Link" />
    <child
      link="R_shoulderY_Link" />
    <axis
      xyz="0 0 1" />
    <limit lower="-1.04" upper="2.5" effort="96" velocity="7.8" />
  </joint>

  <joint name="R_shoulderR_Joint"
    type="revolute">
    <origin
      xyz="-0.00184028682785353 -0.0109999999999742 0.0379999999999823"
      rpy="0.460197873072166 0 0" />
    <parent
      link="R_shoulderY_Link" />
    <child
      link="R_shoulderR_Link" />
    <axis
      xyz="-1 0 0" />
    <limit lower="0." upper="3.14" effort="96" velocity="7.8" />
  </joint>

  <joint name="R_elbowY_Joint"
    type="revolute">
    <origin
      xyz="0.000899999999946388 -0.10910785845751 -0.0422898950436826"
      rpy="-1.03945872278068 -0.455110508942525 -0.252809758259472" />
    <parent
      link="R_shoulderR_Link" />
    <child
      link="R_elbowY_Link" />
    <axis
      xyz="0 0 -1" />
    <limit lower="-3.14" upper="3.14" effort="56" velocity="7.8" />
  </joint>

  <joint name="R_elbowR_Joint"
    type="revolute">
    <origin
      xyz="-0.00155283809991369 -0.000385608396521686 -0.126700000000037"
      rpy="-0.0706181145320938 0 0.243401496663779" />
    <parent
      link="R_elbowY_Link" />
    <child
      link="R_elbowR_Link" />
    <axis
      xyz="1 0 0" />
    <limit lower="-0.17" upper="2.618" effort="56" velocity="7.8" />
  </joint>

  <joint name="L_rodY_Joint"
    type="revolute">
    <origin
      xyz="0.0180414136942475 0.0220733893132975 0.286310542662223"
      rpy="-0.158655262186387 -0.161008520963299 0" />
    <parent
      link="torsoP_Link" />
    <child
      link="L_rodY_Link" />
    <axis
      xyz="0 0 -1" />
    <limit lower="-0.07" upper="0.07" effort="30" velocity="7.8" />
  </joint>

  <joint name="L_rodR_Joint"
    type="revolute">
    <origin
      xyz="0 0 0"
      rpy="0 0 0" />
    <parent
      link="L_rodY_Link" />
    <child
      link="L_rodR_Link" />
    <axis
      xyz="1 0 0 " />
    <limit lower="-0.07" upper="0.07" effort="30" velocity="7.8" />
  </joint>

  <joint name="L_shoulderY_Joint"
    type="revolute">
    <origin
      xyz="-0.0373836738542166 0.102990087058776 0.0182986319400495"
      rpy="-0.420458410206372 0.00702318033464958 0.17157333981384" />
    <parent
      link="L_rodR_Link" />
    <child
      link="L_shoulderY_Link" />
    <axis
      xyz="0 0 -1" />
    <limit lower="-1.04" upper="2.5" effort="96" velocity="7.8" />
  </joint>

  <joint name="L_shoulderR_Joint"
    type="revolute">
    <origin
      xyz="-0.00184028682785264 0.0109999999999741 0.0379999999999821"
      rpy="-0.4601978730721656 0 0" />
    <parent
      link="L_shoulderY_Link" />
    <child
      link="L_shoulderR_Link" />
    <axis
      xyz="1 0 0" />
    <limit lower="0" upper="3.14" effort="96" velocity="7.8" />
  </joint>

  <joint name="L_elbowY_Joint"
    type="revolute">
    <origin
      xyz="0.000899999999945944 0.109107858457509 -0.0422898950436827"
      rpy="1.03945872278068 -0.455110508942521 0.252809758259471" />
    <parent
      link="L_shoulderR_Link" />
    <child
      link="L_elbowY_Link" />
    <axis
      xyz="0 0 1" />
    <limit lower="-3.14" upper="3.14" effort="56" velocity="7.8" />
  </joint>

  <joint name="L_elbowR_Joint"
    type="revolute">
    <origin
      xyz="-0.00155283809991369 0.000385608396521464 -0.126700000000037"
      rpy="0.0706181145320936 0 -0.243401496663776" />
    <parent
      link="L_elbowY_Link" />
    <child
      link="L_elbowR_Link" />
    <axis
      xyz="-1 0 0" />
    <limit lower="-0.17" upper="2.618" effort="56" velocity="7.8" />
  </joint>

  <joint name="neckR_Joint"
    type="revolute">
    <origin
      xyz="-0.0473562529073619 0 0.27159169378255"
      rpy="0 -0.178890351530418 0" />
    <parent
      link="torsoP_Link" />
    <child
      link="top_neckR_Link" />
    <axis
      xyz="-0.985447976055012 0 0.16997731168918" />
    <limit lower="-1.39" upper="1.39" effort="30" velocity="7.8" />
  </joint>

  <joint name="neckP_Joint"
    type="revolute">
    <origin
      xyz="0 0 0"
      rpy="0 0 0" />
    <parent
      link="top_neckR_Link" />
    <child
      link="neckP_Link" />
    <axis
      xyz="0 1 0" />
    <limit lower="-0.78" upper="0.78" effort="30" velocity="7.8" />
  </joint>

  <joint name="collarR_Joint"
    type="revolute">
    <origin
      xyz="0.00882322255880874 0 0.107640144661505"
      rpy="3.05580775076582 0.0864163749872465 0" />
    <parent
      link="neckP_Link" />
    <child
      link="collarR_Link" />
    <axis
      xyz="-1 0 0" />
    <limit lower="-0.78" upper="0.78" effort="30" velocity="7.8" />
  </joint>

  <joint name="collarP_Joint"
    type="revolute">
    <origin
      xyz="0 0 0"
      rpy="0 0 0" />
    <parent
      link="collarR_Link" />
    <child
      link="collarP_Link" />
    <axis
      xyz="0 -0.996322731454655 -0.0856797221443661" />
    <limit lower="-0.78" upper="0.78" effort="30" velocity="7.8" />
  </joint>

  <joint name="topY_Joint"
    type="revolute">
    <origin
      xyz="0.000323926444592892 0.0111096209822336 -0.0778336777585973"
      rpy="0 0.00322525097475909 3.13093823362141" />
    <parent
      link="collarP_Link" />
    <child
      link="topY_Link" />
    <axis
      xyz="0 0.0857180943365423 0.996319430857048" />
    <limit lower="-0.78" upper="0.78" effort="30" velocity="7.8" />
  </joint>
</robot>
